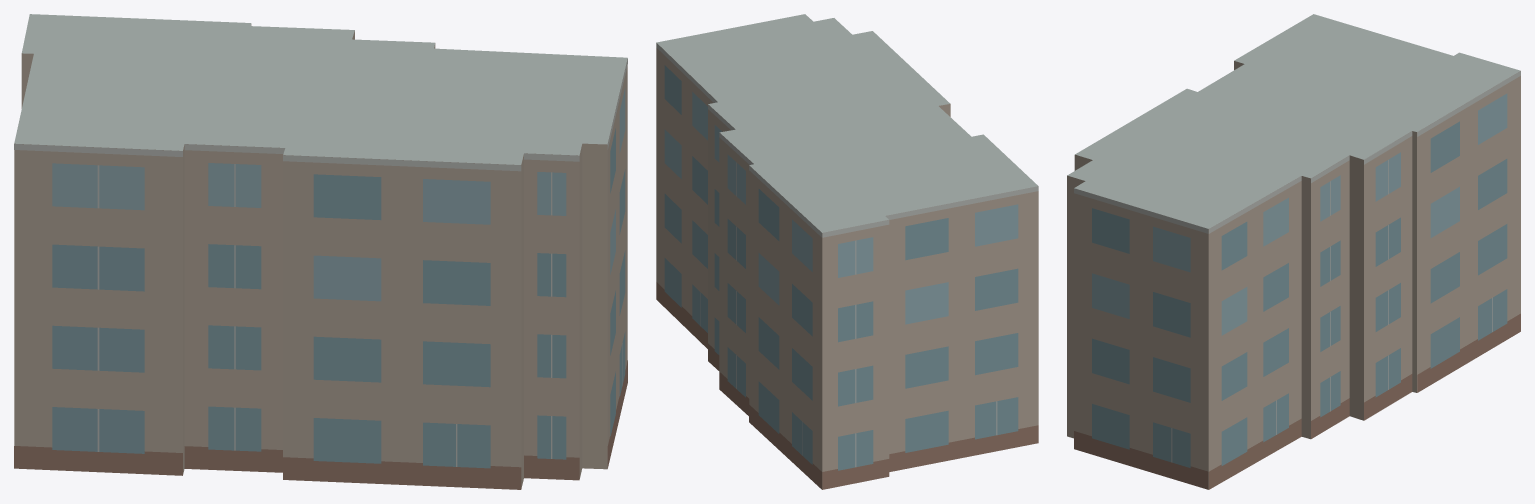
The model's file is survey-upis-32491579.glb.
The picture shows the model from 3 angles, left to right: view 1: azimuth 30°, elevation 25°; view 2: azimuth 150°, elevation 25°; view 3: azimuth 270°, elevation 25°; orthographic projection. The views are drawn at different scales.
Visible parts, largest first — view 1: survey-upis-32491579.tmp; view 2: survey-upis-32491579.tmp; view 3: survey-upis-32491579.tmp.
Part boxes in pixels (x1,y1,x2,y2): survey-upis-32491579.tmp: (14, 14, 627, 489); survey-upis-32491579.tmp: (656, 14, 1038, 489); survey-upis-32491579.tmp: (1067, 14, 1520, 489).
Bounding box in the file's own units: 22.55 × 12.76 × 20.11.
